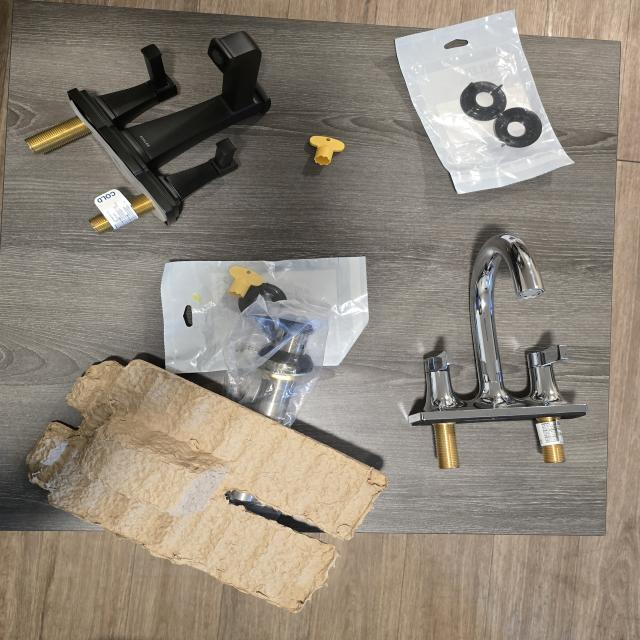10: (409, 235, 587, 468)
11o: (223, 295, 329, 427)
12o: (161, 257, 369, 372)
13: (395, 11, 573, 194)
14: (309, 136, 344, 165)
9: (26, 31, 270, 233)
